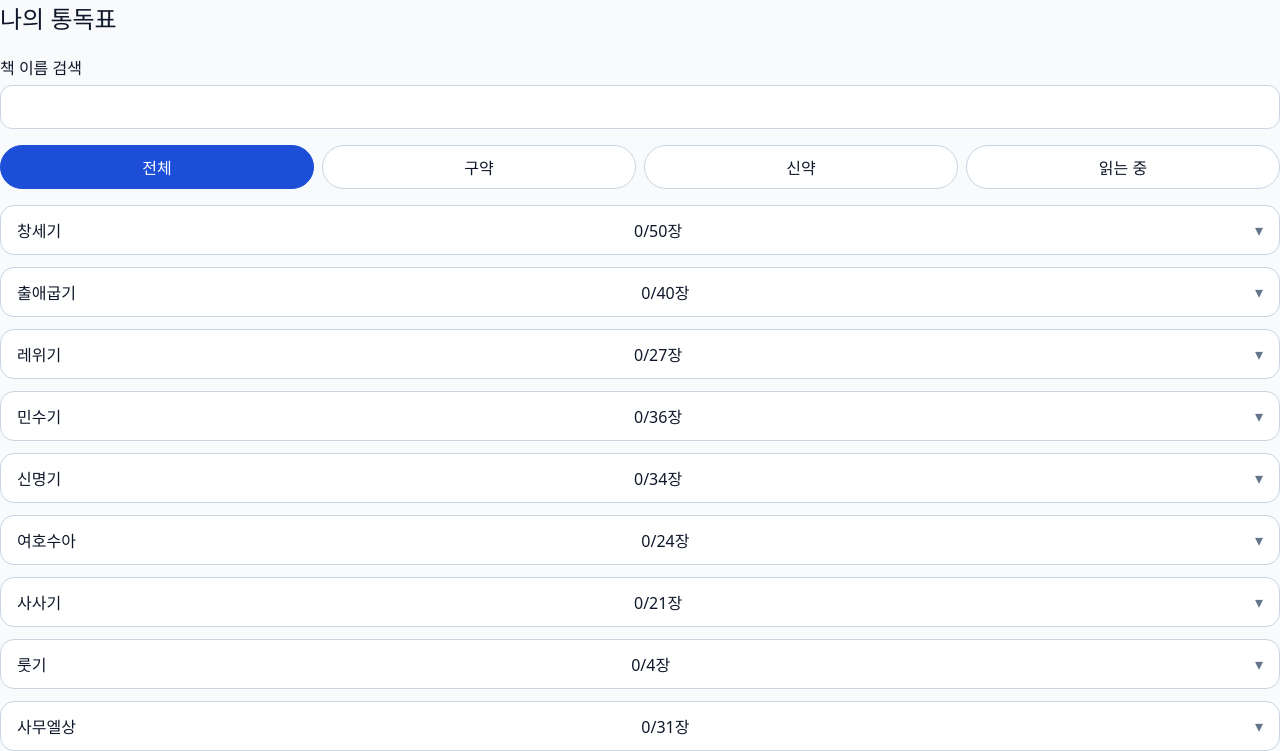
TrackerPage › 66권을 정경 순서로 보여주고 책을 펼칠 때만 장 버튼을 렌더링한다
This screenshot has width=1280, height=751.
Step 1. Click the button "창세기 0/50장" → (640, 230), box x1=1 y1=206 x2=1279 y2=254
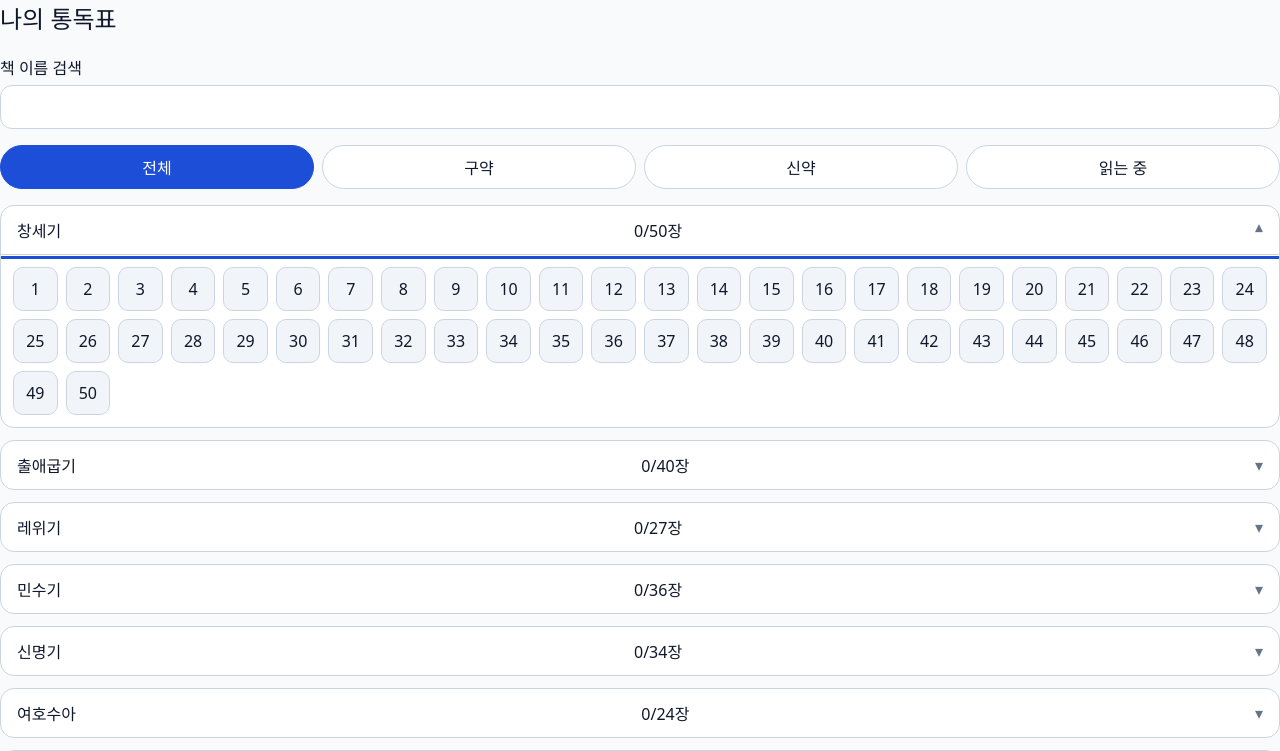
Expected: the number of buttons "1" is 50
Expected: the button with aria-label "창세기, 0/50장, 접기" is expanded, x1=1 y1=206 x2=1279 y2=254
